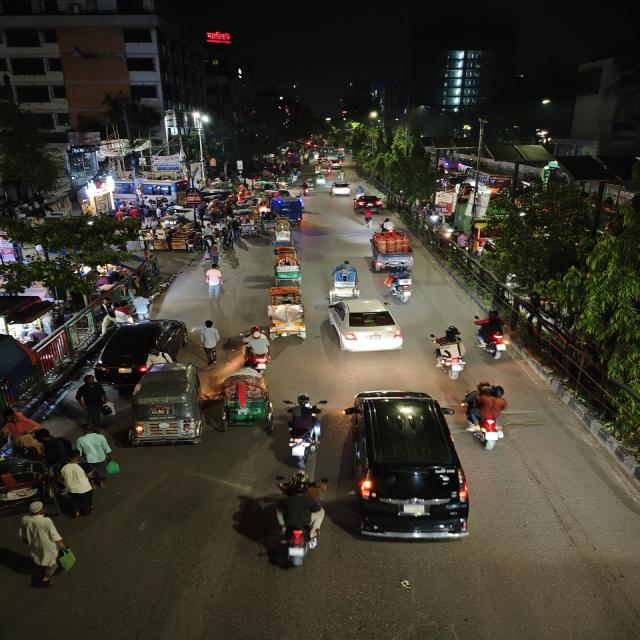bicycle: (360, 209, 376, 229)
car: (344, 388, 472, 548), (91, 316, 188, 378), (324, 295, 406, 359), (352, 193, 385, 211), (329, 180, 352, 197), (329, 158, 344, 169)
cng: (127, 361, 206, 450)
motorcycle: (264, 470, 331, 572), (459, 381, 515, 454), (280, 390, 329, 462), (427, 325, 468, 381), (473, 310, 514, 360), (239, 326, 274, 372), (382, 264, 418, 304), (378, 217, 395, 232), (299, 182, 312, 196)
pedestrian: (15, 501, 70, 587), (55, 454, 96, 518), (76, 426, 115, 480), (75, 374, 111, 424), (33, 426, 64, 472), (196, 318, 222, 362), (201, 263, 228, 300), (128, 291, 156, 320)
pickup_van: (365, 228, 418, 272)
rickshaw: (217, 370, 277, 432), (0, 453, 50, 517), (266, 298, 310, 342), (328, 259, 360, 299), (258, 215, 289, 241), (272, 244, 302, 268), (268, 218, 294, 244), (239, 216, 261, 236), (303, 177, 318, 189), (315, 174, 326, 184)
truck: (271, 196, 308, 220)
